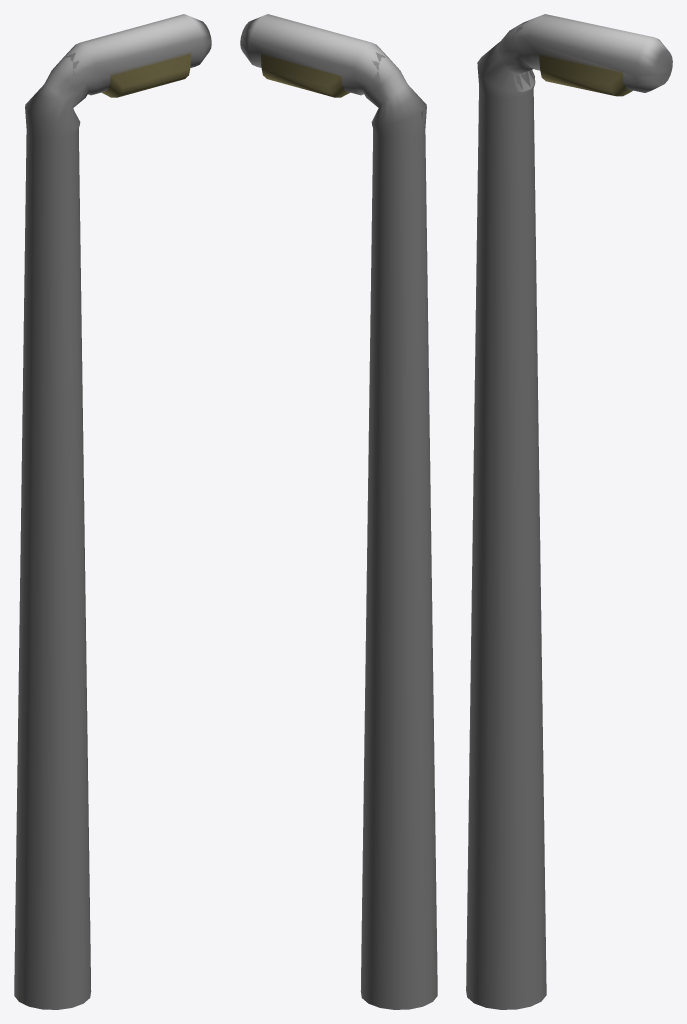
Rendered from light_pole.fbx.
3 views of the same model, side by side, from view 1: azimuth 30°, elevation 25°; view 2: azimuth 150°, elevation 25°; view 3: azimuth 330°, elevation 25° (orthographic). The views are drawn at different scales.
Parts seen in each view (by area): view 1: Cylinder; view 2: Cylinder; view 3: Cylinder.
Boxes of the visible parts, left/top/right/bottom form: Cylinder: left=14, top=14, right=211, bottom=1009; Cylinder: left=240, top=14, right=437, bottom=1009; Cylinder: left=466, top=14, right=672, bottom=1009.
Bounding box in the file's own units: 0.1086 × 1.46 × 0.2986.
Materials: 1 (1 with a texture image).
